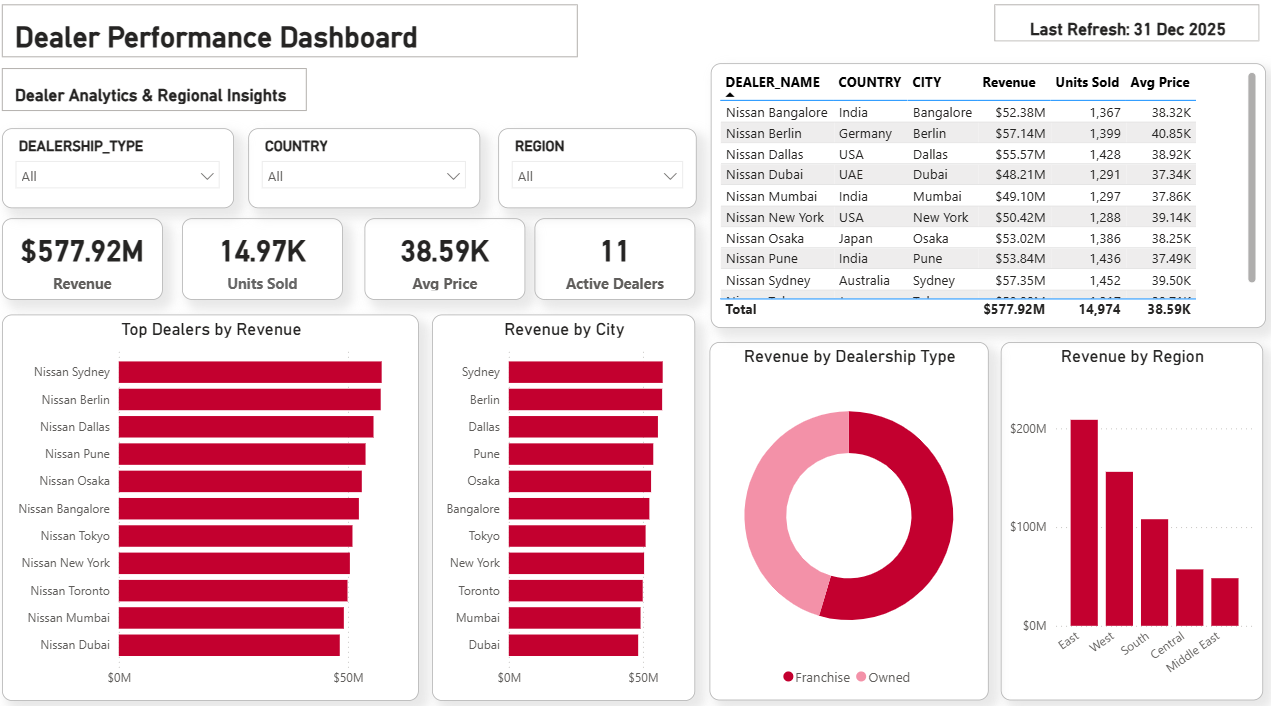

What the dashboard file says about the page in this screenshot:
{"tool":"powerbi","page":{"name":"Dealer Performance","canvas":[1280,720],"ordinal":1},"visuals":[{"type":"card","title":"Total Revenue","fields":{"Values":["_Measures.Total Revenue"]},"box":[4.7,226.6,160.9,81.3],"z":0},{"type":"card","fields":{"Values":["_Measures.Active Dealers"]},"box":[537.5,226.6,160.9,81.3],"z":1000},{"type":"card","fields":{"Values":["_Measures.Average Selling Price"]},"box":[367.2,226.6,160.9,81.3],"z":2000},{"type":"card","fields":{"Values":["_Measures.Total Units Sold"]},"box":[184.4,226.6,160.9,81.3],"z":3000},{"type":"clusteredBarChart","title":"Top Dealers by Revenue","fields":{"Y":["_Measures.Total Revenue"],"Category":["DIM_DEALERS.DEALER_NAME"]},"box":[5,322,417,386],"z":4000},{"type":"clusteredBarChart","title":"Revenue by City","fields":{"Y":["_Measures.Total Revenue"],"Category":["DIM_DEALERS.CITY"]},"box":[435,322,263,386],"z":5000},{"type":"clusteredColumnChart","title":"Revenue by Region","fields":{"Y":["_Measures.Total Revenue"],"Category":["DIM_DEALERS.REGION"]},"box":[1004,350,262,358],"z":6000},{"type":"slicer","fields":{"Values":["DIM_DEALERS.COUNTRY"]},"box":[251.7,136.7,231.7,80],"z":7000},{"type":"cardVisual","fields":{"Data":["_Measures.Last Refresh"]},"box":[992.9,7.1,275.7,47.1],"z":8000},{"type":"cardVisual","fields":{"Data":["_Measures.Dealer Dashboard Title"]},"box":[0,7.5,586.2,63.8],"z":9000},{"type":"cardVisual","fields":{"Data":["_Measures.Dealer Dashboard Subtitle"]},"box":[0,71.7,315,53.3],"z":10000},{"type":"slicer","fields":{"Values":["DIM_DEALERS.REGION"]},"box":[501.7,136.7,198.3,80],"z":11000},{"type":"slicer","fields":{"Values":["DIM_DEALERS.DEALERSHIP_TYPE"]},"box":[5,136.7,231.7,80],"z":12000},{"type":"donutChart","title":"Revenue by Dealership Type","fields":{"Y":["_Measures.Total Revenue"],"Category":["DIM_DEALERS.DEALERSHIP_TYPE"]},"box":[713,350,279,358],"z":13000},{"type":"tableEx","fields":{"Values":["DIM_DEALERS.DEALER_NAME","DIM_DEALERS.COUNTRY","DIM_DEALERS.CITY","_Measures.Revenue","_Measures.Units Sold","_Measures.Avg Price"]},"box":[713.3,71.7,555,265],"z":14000}]}

Visuals, with their boxes in screenshot pixels (x1, y1, x2, y2), scaled from the page's 1280x720 canvas onto the 1271x706 screenshot:
"Total Revenue" card: <region>5, 222, 164, 302</region>
card - _Measures.Active Dealers: <region>534, 222, 693, 302</region>
card - _Measures.Average Selling Price: <region>365, 222, 524, 302</region>
card - _Measures.Total Units Sold: <region>183, 222, 343, 302</region>
"Top Dealers by Revenue" clusteredBarChart: <region>5, 316, 419, 694</region>
"Revenue by City" clusteredBarChart: <region>432, 316, 693, 694</region>
"Revenue by Region" clusteredColumnChart: <region>997, 343, 1257, 694</region>
slicer - DIM_DEALERS.COUNTRY: <region>250, 134, 480, 212</region>
cardVisual - _Measures.Last Refresh: <region>986, 7, 1260, 53</region>
cardVisual - _Measures.Dealer Dashboard Title: <region>0, 7, 582, 70</region>
cardVisual - _Measures.Dealer Dashboard Subtitle: <region>0, 70, 313, 123</region>
slicer - DIM_DEALERS.REGION: <region>498, 134, 695, 212</region>
slicer - DIM_DEALERS.DEALERSHIP_TYPE: <region>5, 134, 235, 212</region>
"Revenue by Dealership Type" donutChart: <region>708, 343, 985, 694</region>
tableEx - DIM_DEALERS.DEALER_NAME x DIM_DEALERS.COUNTRY: <region>708, 70, 1259, 330</region>
